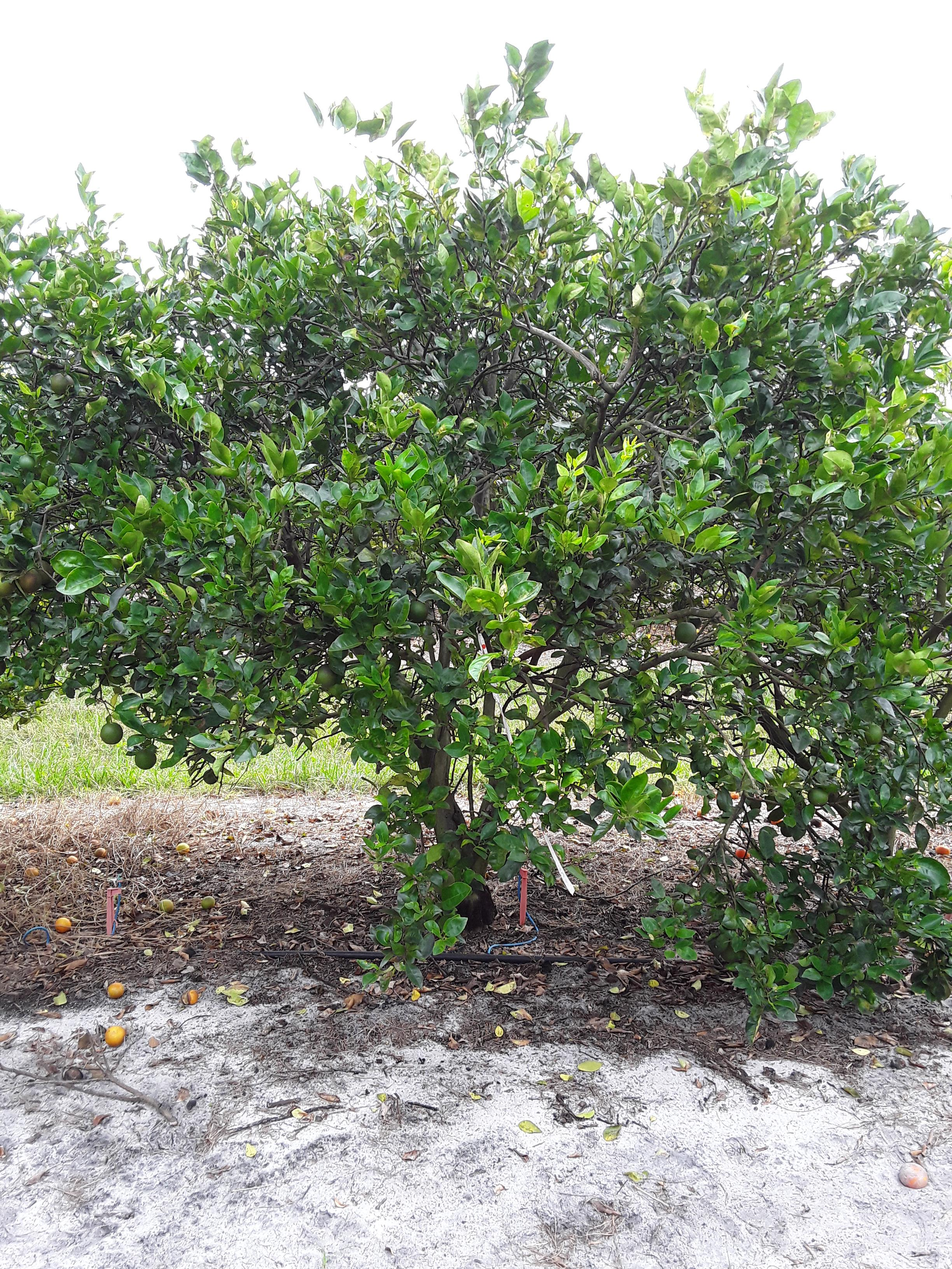fruit_on_ground: (30, 551, 61, 591), (15, 568, 50, 594), (431, 868, 458, 898), (315, 662, 344, 689), (674, 620, 701, 648), (50, 371, 80, 396), (127, 669, 154, 693), (816, 589, 840, 615), (406, 598, 430, 624), (100, 721, 126, 745), (134, 748, 161, 771), (348, 524, 378, 544), (807, 784, 830, 807), (198, 764, 220, 787), (140, 474, 161, 498), (932, 976, 952, 1001), (0, 579, 22, 601), (864, 724, 886, 746), (799, 586, 818, 608), (655, 776, 674, 798), (19, 453, 36, 470)
fruit_on_tree: (897, 1161, 934, 1191), (104, 1024, 128, 1045), (60, 1066, 86, 1084), (180, 989, 203, 1009), (886, 1055, 908, 1073), (54, 916, 74, 935), (157, 898, 177, 914), (107, 982, 126, 998), (932, 843, 952, 858), (734, 846, 753, 861), (200, 895, 217, 911), (64, 855, 84, 868), (175, 841, 192, 854), (23, 867, 41, 878), (697, 806, 709, 821), (768, 815, 785, 825), (92, 847, 107, 858), (109, 795, 122, 807), (762, 1040, 779, 1049), (810, 817, 825, 827), (728, 790, 742, 800), (88, 837, 102, 847)
